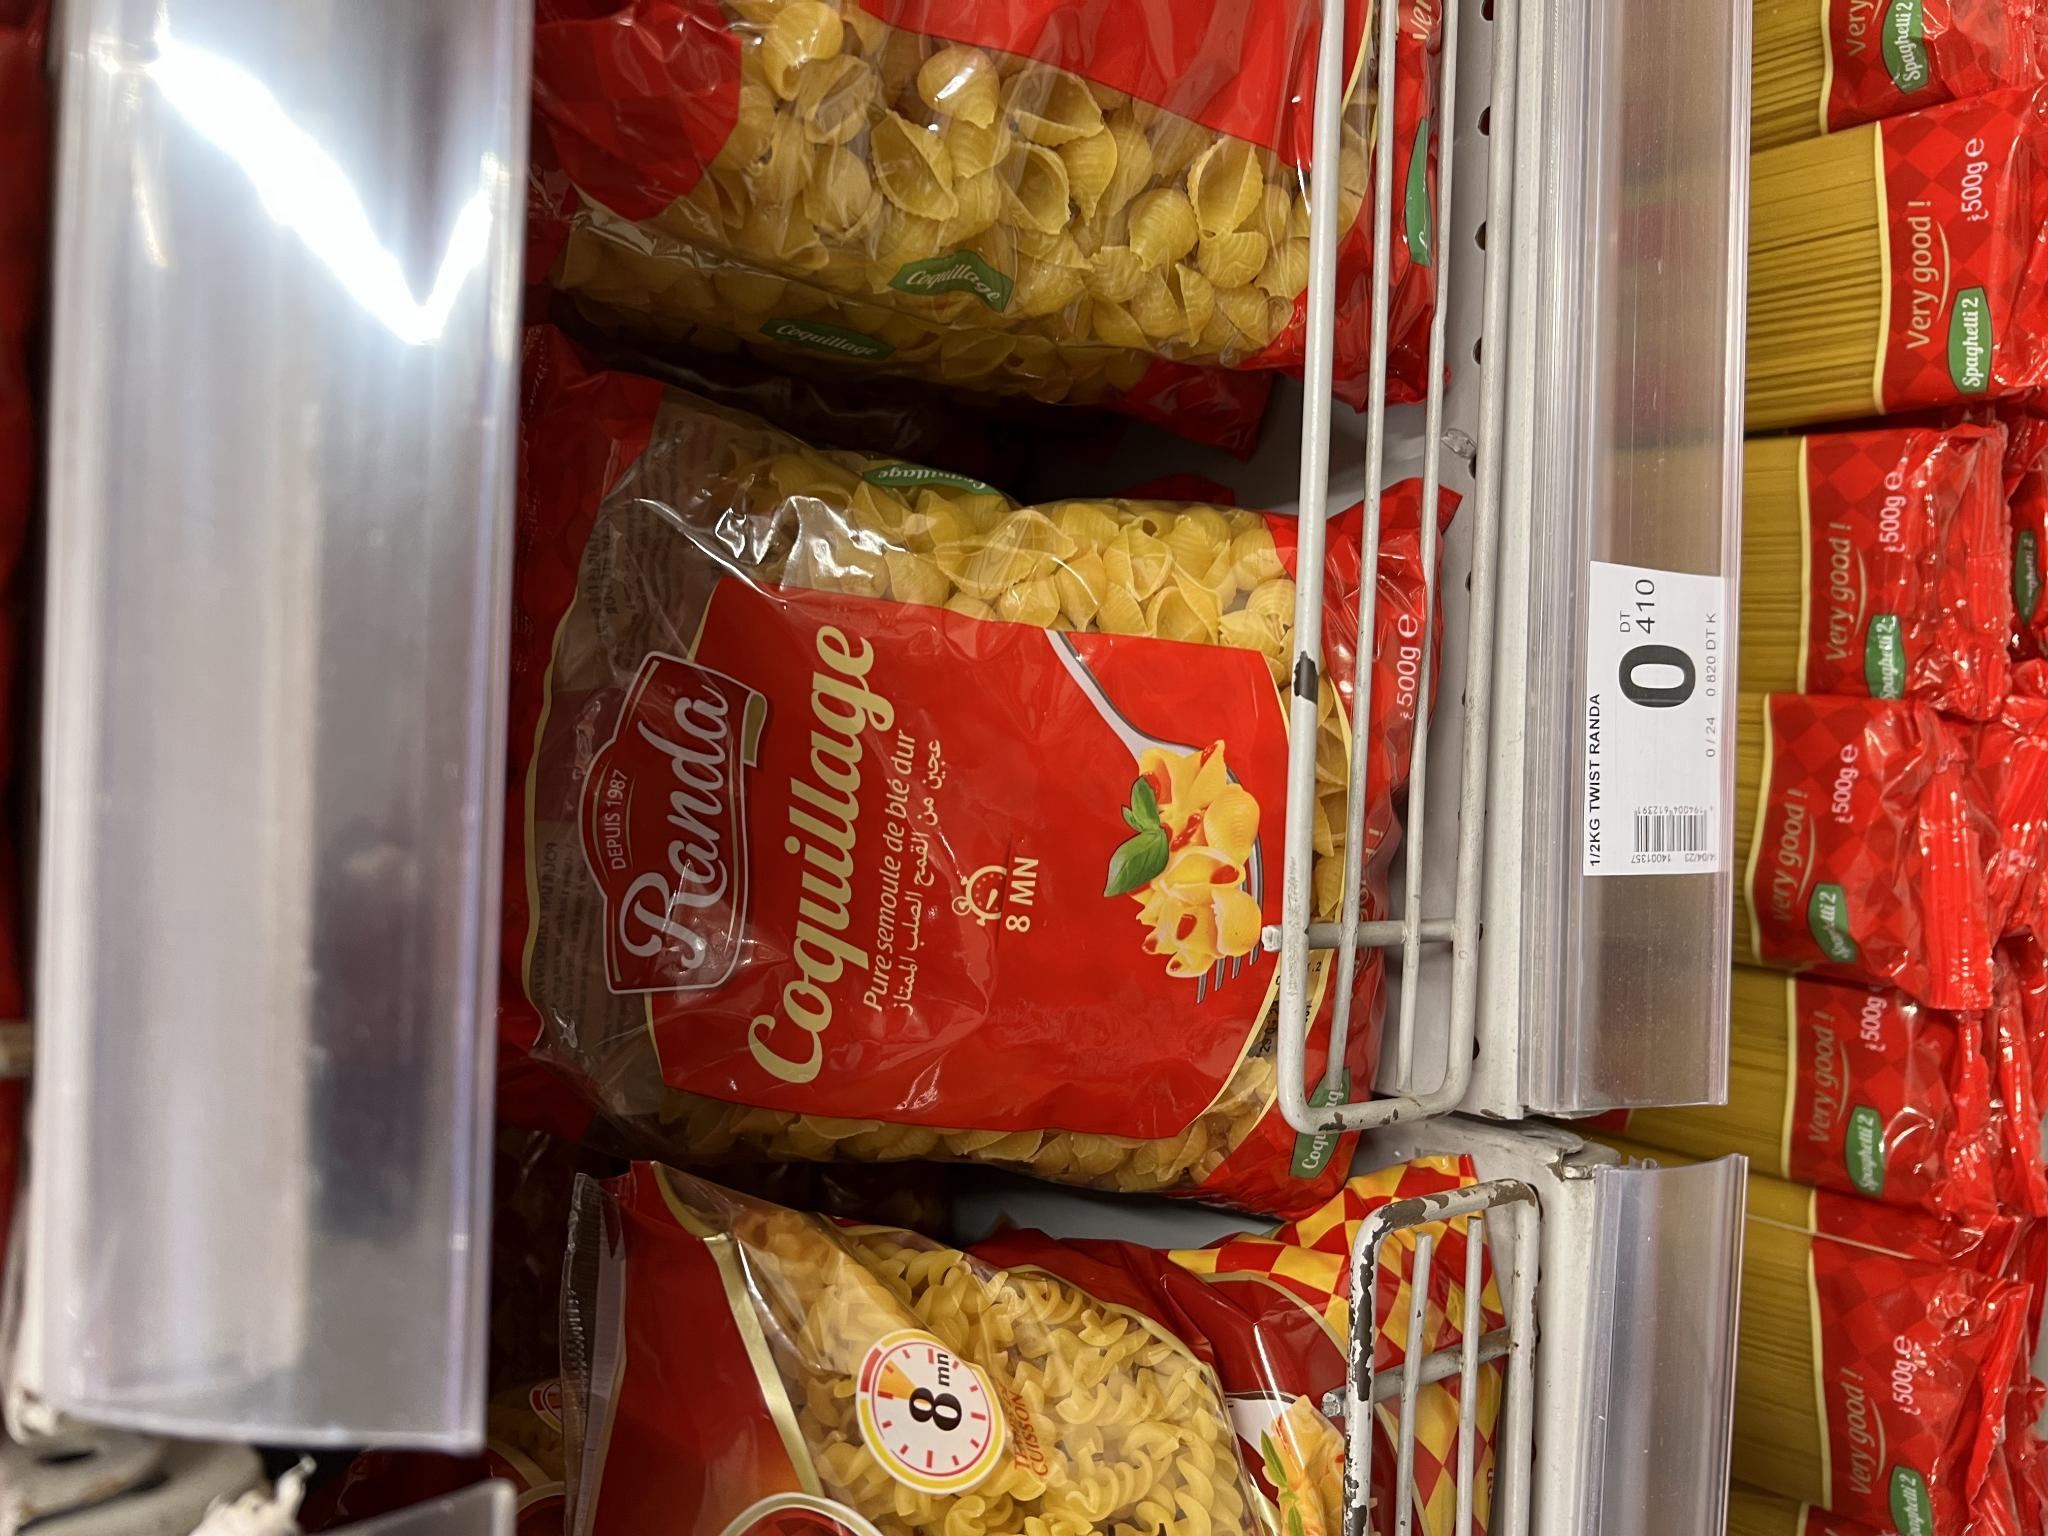Escargot: (527, 381, 1413, 1192)
